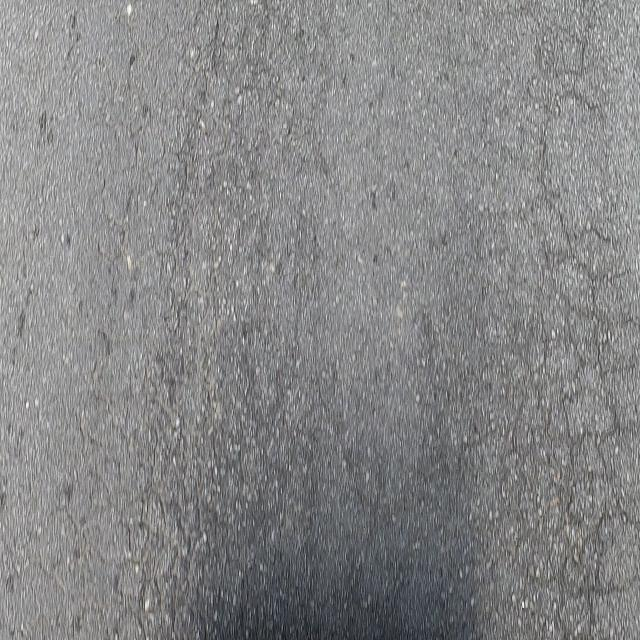Retak-Buaya: (492, 44, 637, 638), (60, 351, 319, 640)
